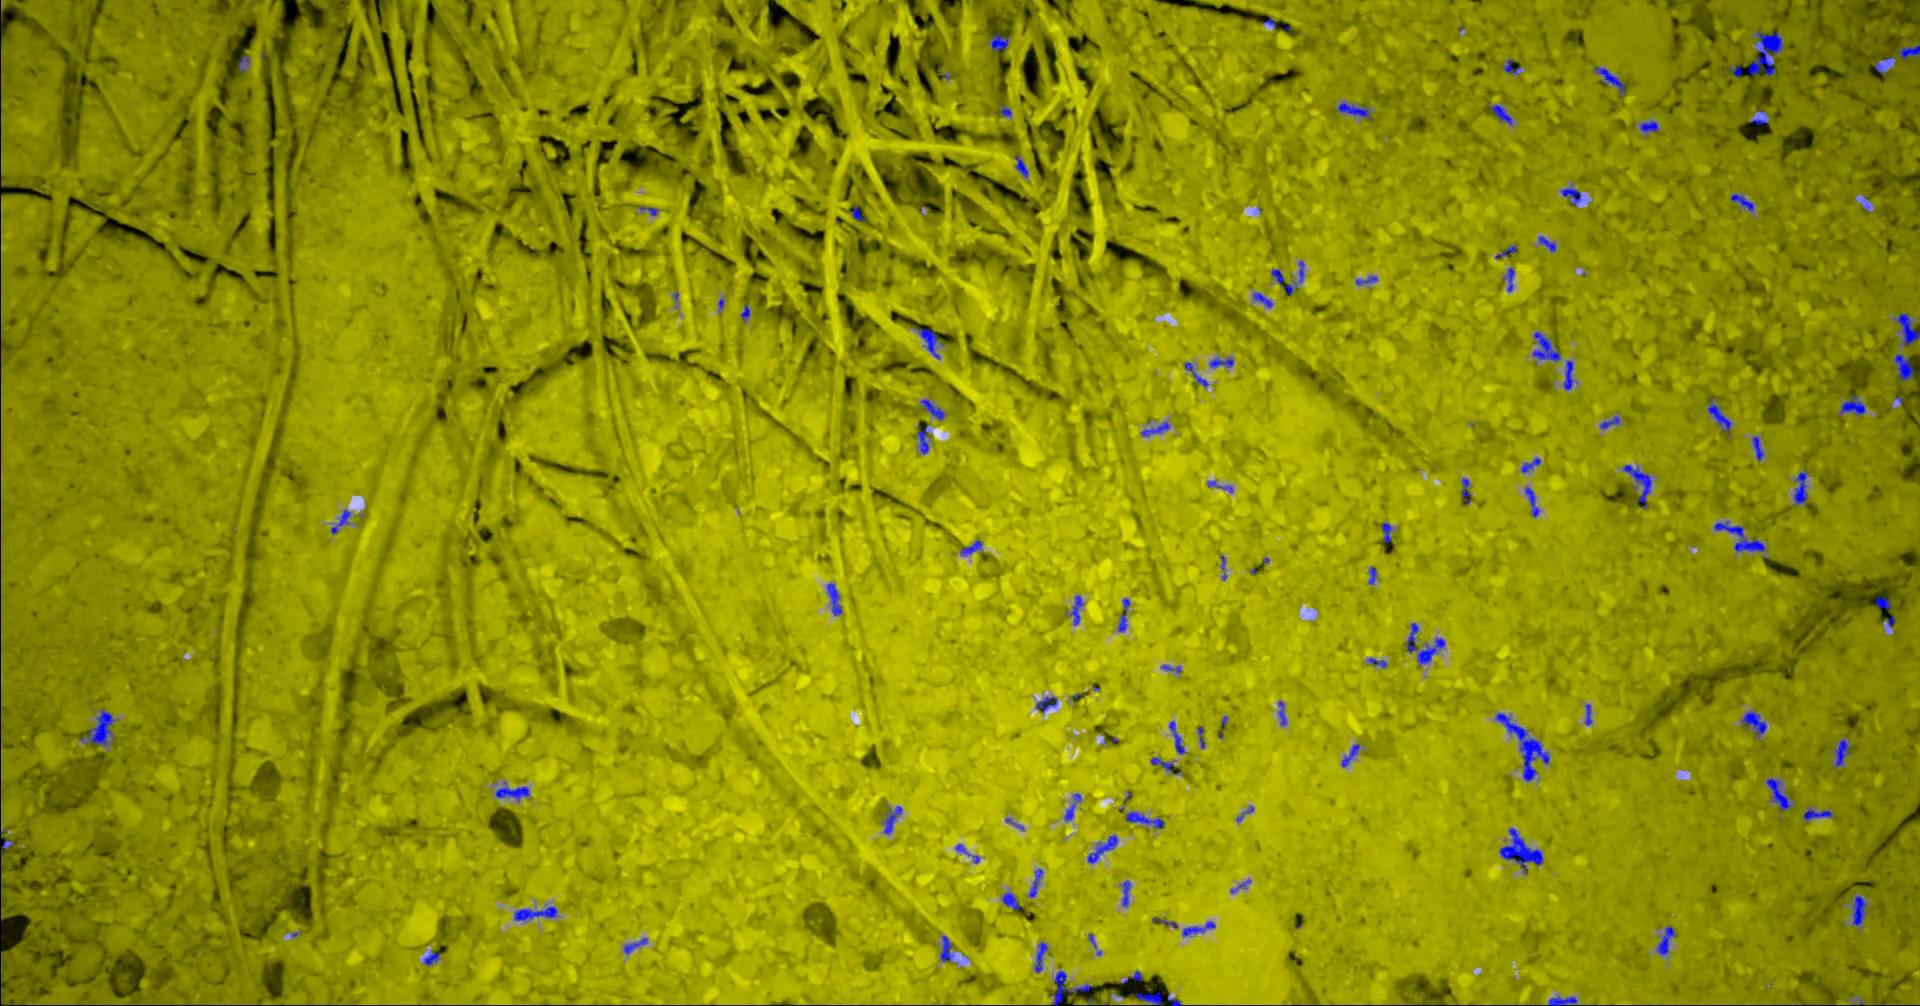ant: (1495, 713, 1549, 781), (1498, 827, 1543, 874), (1747, 30, 1782, 76), (1713, 521, 1764, 551), (1049, 970, 1090, 1005), (79, 709, 116, 746), (1622, 464, 1651, 508), (1592, 66, 1625, 97), (1765, 777, 1793, 810), (916, 326, 942, 359), (1087, 835, 1117, 862), (1531, 332, 1559, 361), (1416, 636, 1445, 664), (1895, 312, 1919, 345), (1707, 398, 1731, 431), (1125, 810, 1163, 828), (495, 781, 530, 800), (1741, 711, 1766, 737), (1183, 361, 1208, 387), (513, 906, 557, 920), (1271, 269, 1297, 293), (1168, 720, 1186, 753), (1656, 925, 1675, 955), (1336, 102, 1370, 118), (883, 805, 902, 835), (1893, 353, 1914, 380), (1839, 395, 1865, 415), (1834, 737, 1851, 767), (1182, 921, 1215, 936), (1150, 756, 1178, 774), (1063, 793, 1081, 821), (919, 399, 943, 419), (330, 509, 350, 533), (825, 583, 841, 615), (1490, 104, 1512, 124), (1524, 486, 1539, 517), (1793, 471, 1807, 504), (1140, 420, 1170, 436), (916, 424, 931, 453), (1341, 743, 1359, 767), (1802, 807, 1832, 821), (1851, 895, 1865, 926), (1559, 185, 1581, 205), (1029, 868, 1043, 897), (1034, 942, 1048, 972), (1730, 193, 1752, 211), (623, 937, 648, 954), (1117, 598, 1129, 631), (938, 935, 952, 962), (1406, 622, 1418, 652), (960, 539, 982, 555), (1035, 696, 1057, 713), (1135, 991, 1161, 1005), (1070, 594, 1082, 625), (1001, 890, 1018, 909), (1252, 291, 1272, 307), (1562, 359, 1573, 389), (1897, 43, 1919, 58), (990, 33, 1008, 51), (1520, 457, 1540, 473), (1547, 995, 1576, 1005), (1502, 58, 1520, 75), (1538, 235, 1556, 251), (1015, 154, 1027, 177), (1599, 415, 1619, 429), (1502, 267, 1514, 291), (1751, 436, 1763, 460), (1208, 480, 1232, 492), (1495, 245, 1516, 258), (423, 950, 439, 965), (1209, 357, 1233, 367), (1462, 478, 1470, 504), (1121, 879, 1130, 906), (851, 205, 865, 221), (1874, 594, 1891, 608), (1639, 119, 1657, 132), (1277, 701, 1286, 725), (1380, 522, 1390, 542), (1727, 65, 1742, 77), (1366, 657, 1385, 667), (1355, 276, 1377, 285), (1583, 702, 1591, 725), (237, 55, 248, 71), (1368, 567, 1377, 584)
